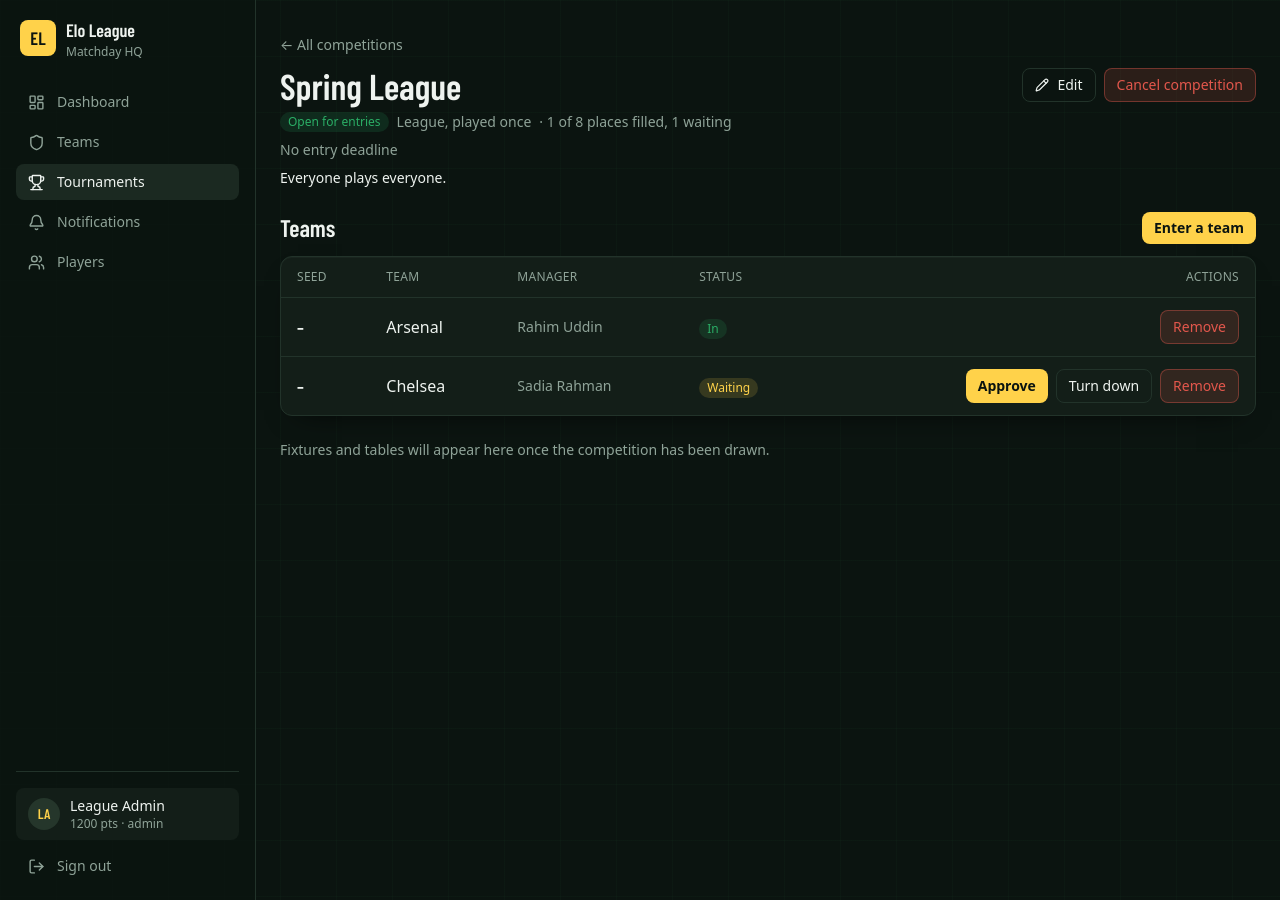
Test case: admin controls › shows the server message when an action fails
The width and height of the screenshot is (1280, 900).
Click the button with aria-label "Approve Chelsea" at (1007, 386), box [966,369,1048,403]
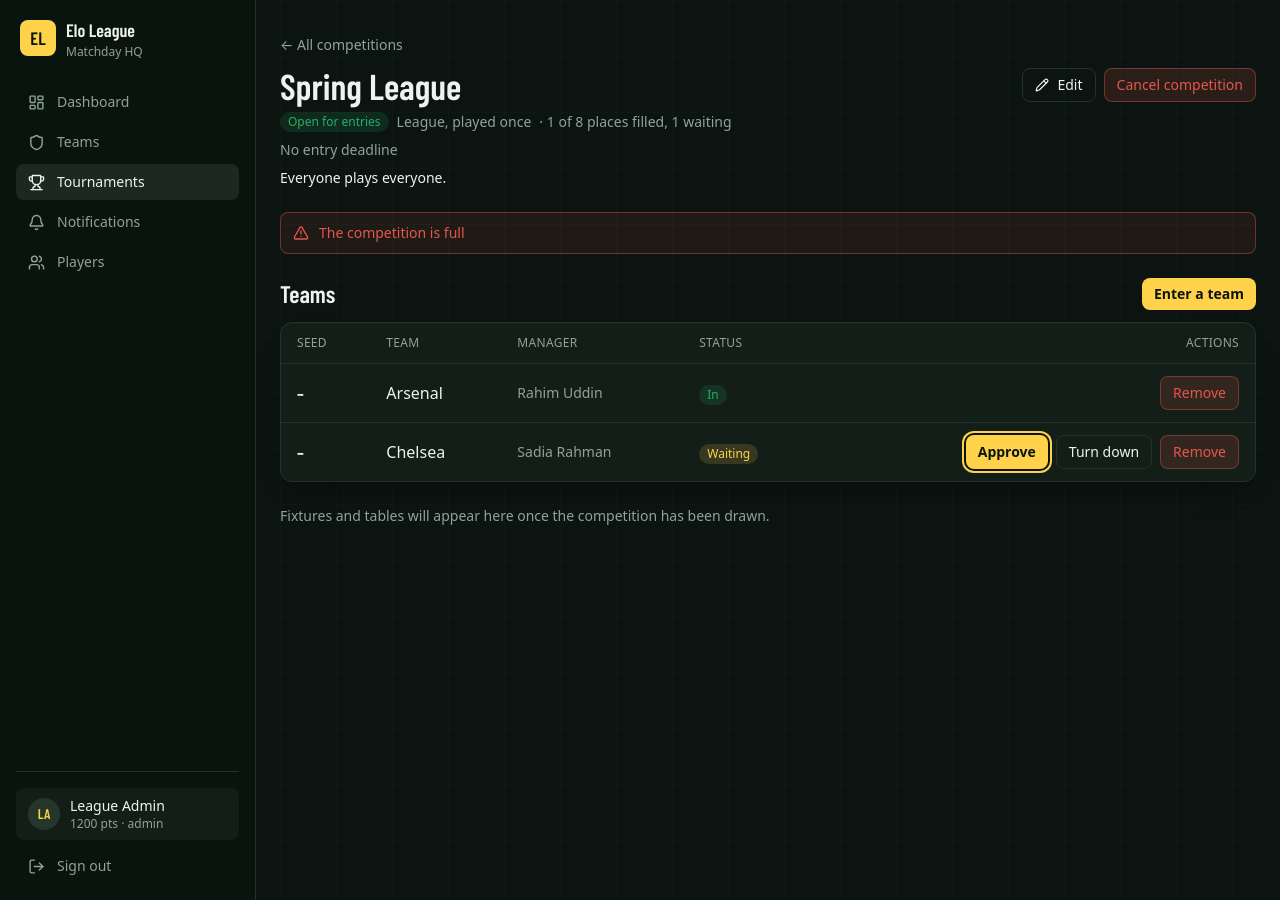
Expected: the message reads "The competition is full", [319,223,464,242]
